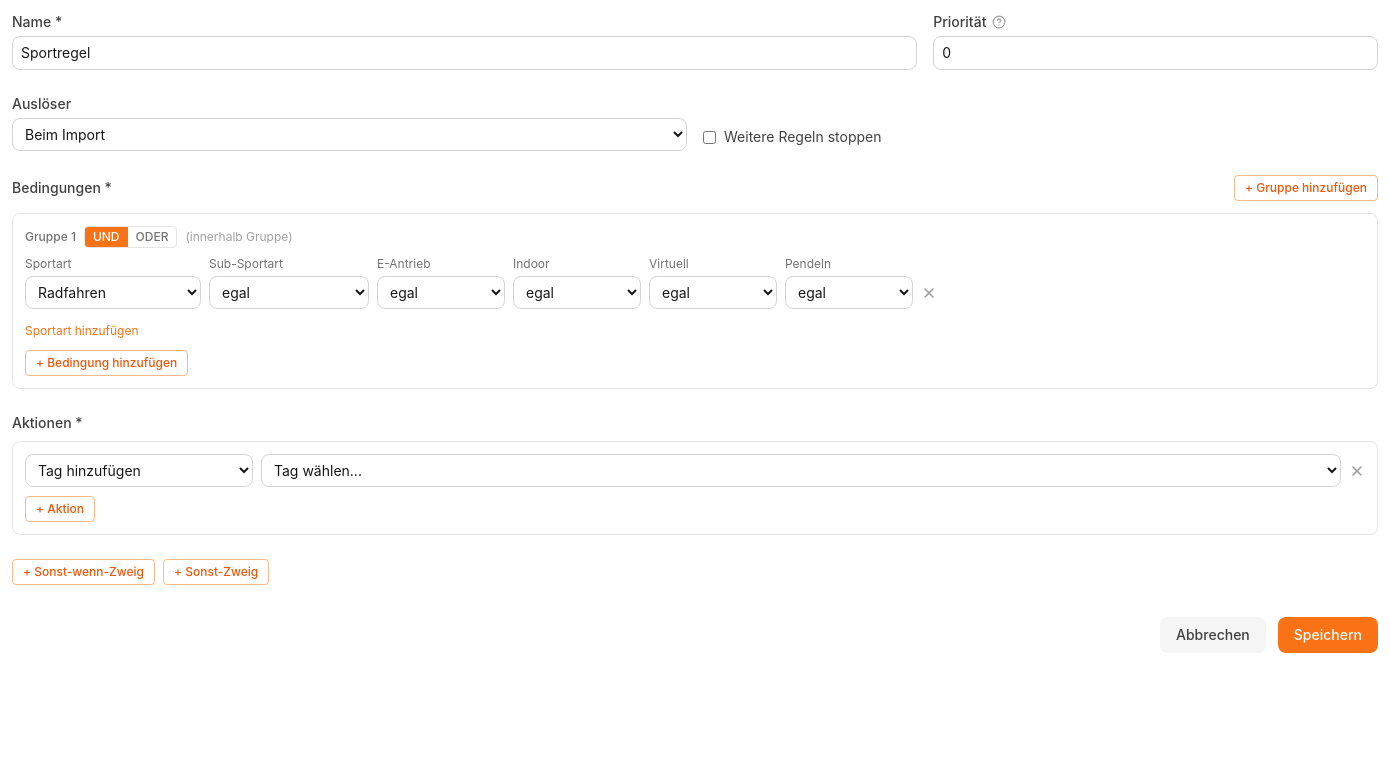
Test: RuleEditor sport tuple controls › blocks actions with missing required params before submit
Click the button "Speichern".
click(1328, 635)  # box [1278, 617, 1378, 653]
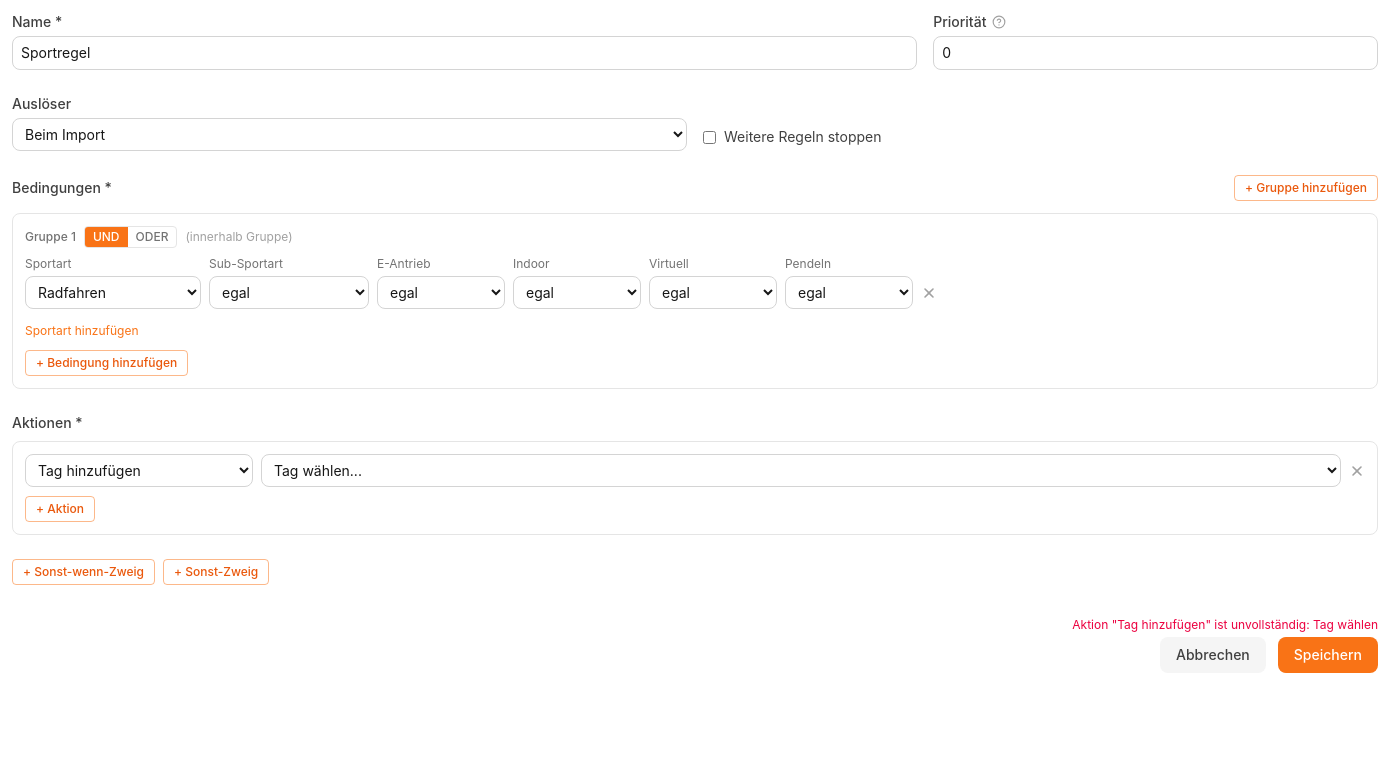
Now the message shows "Aktion \"Tag hinzufügen\" ist unvollständig", box [1072, 617, 1378, 632]
